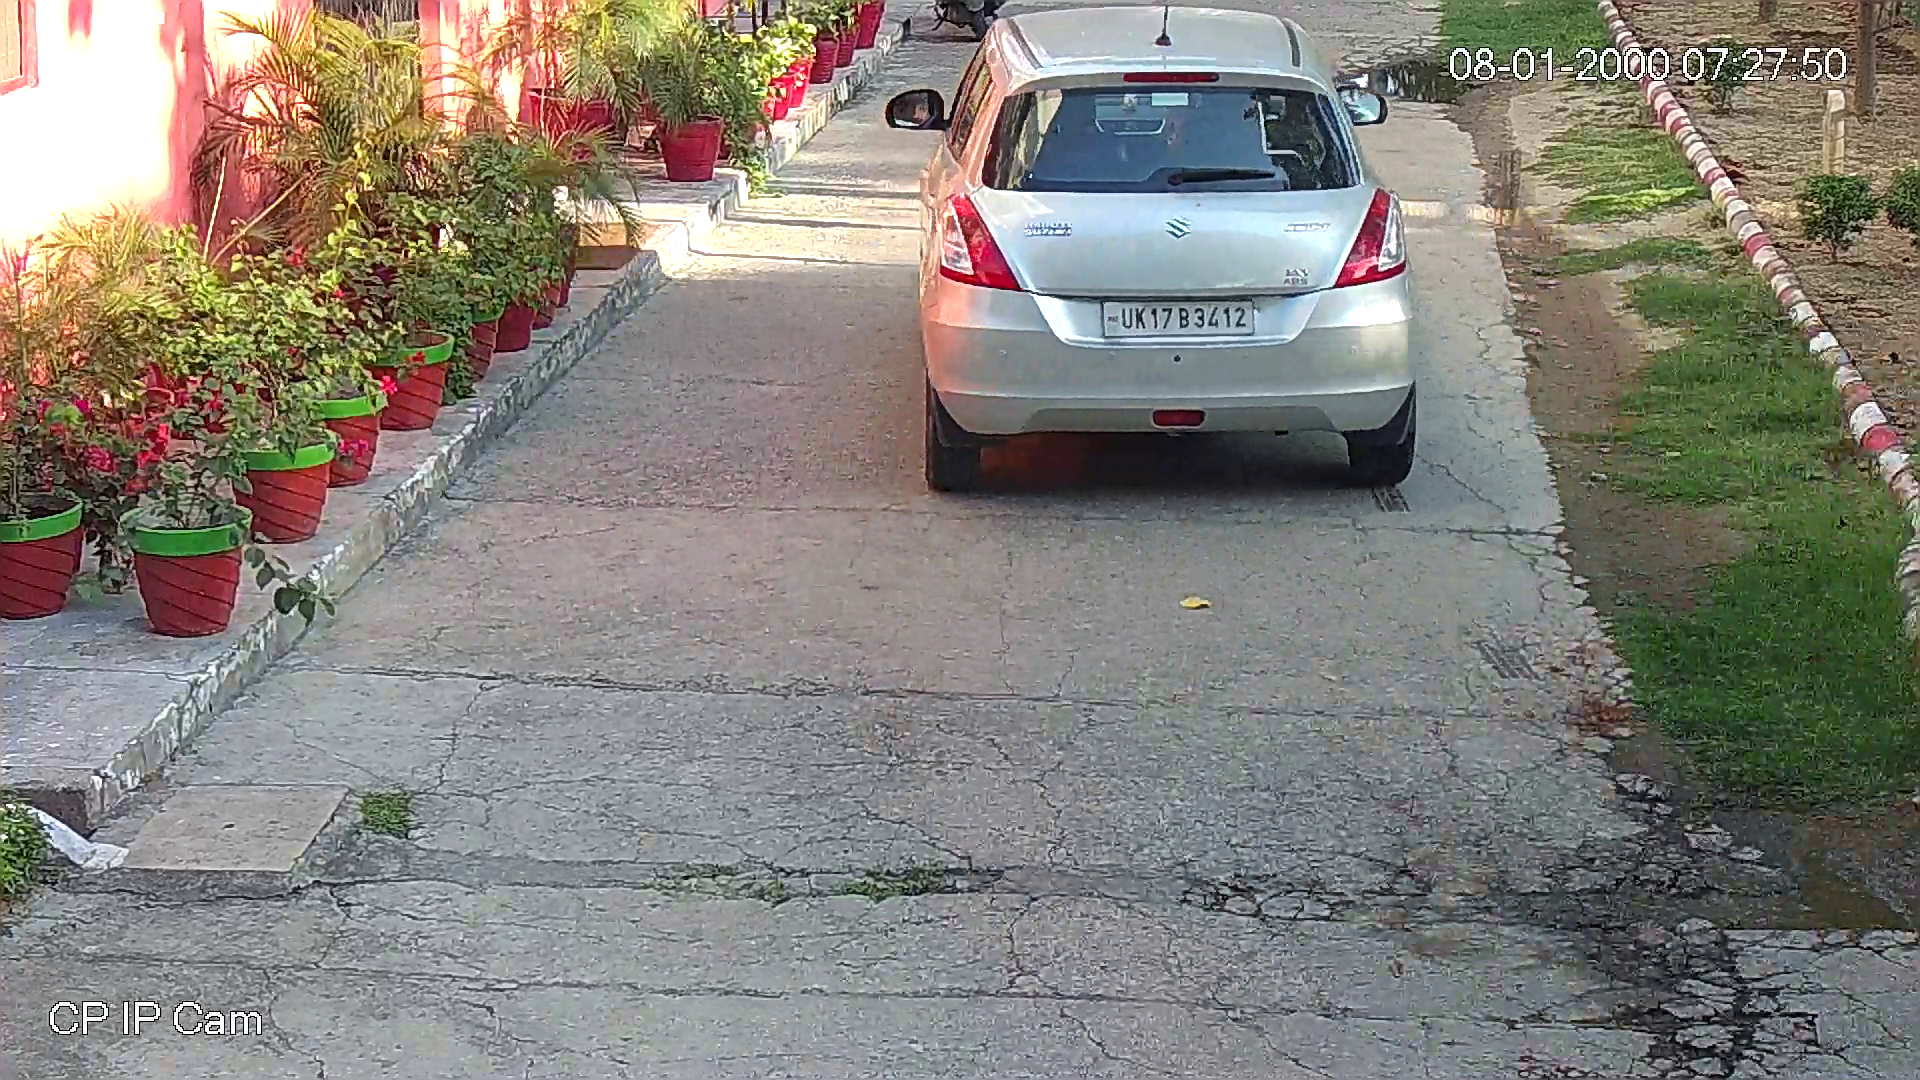plate: (1099, 291, 1258, 339)
